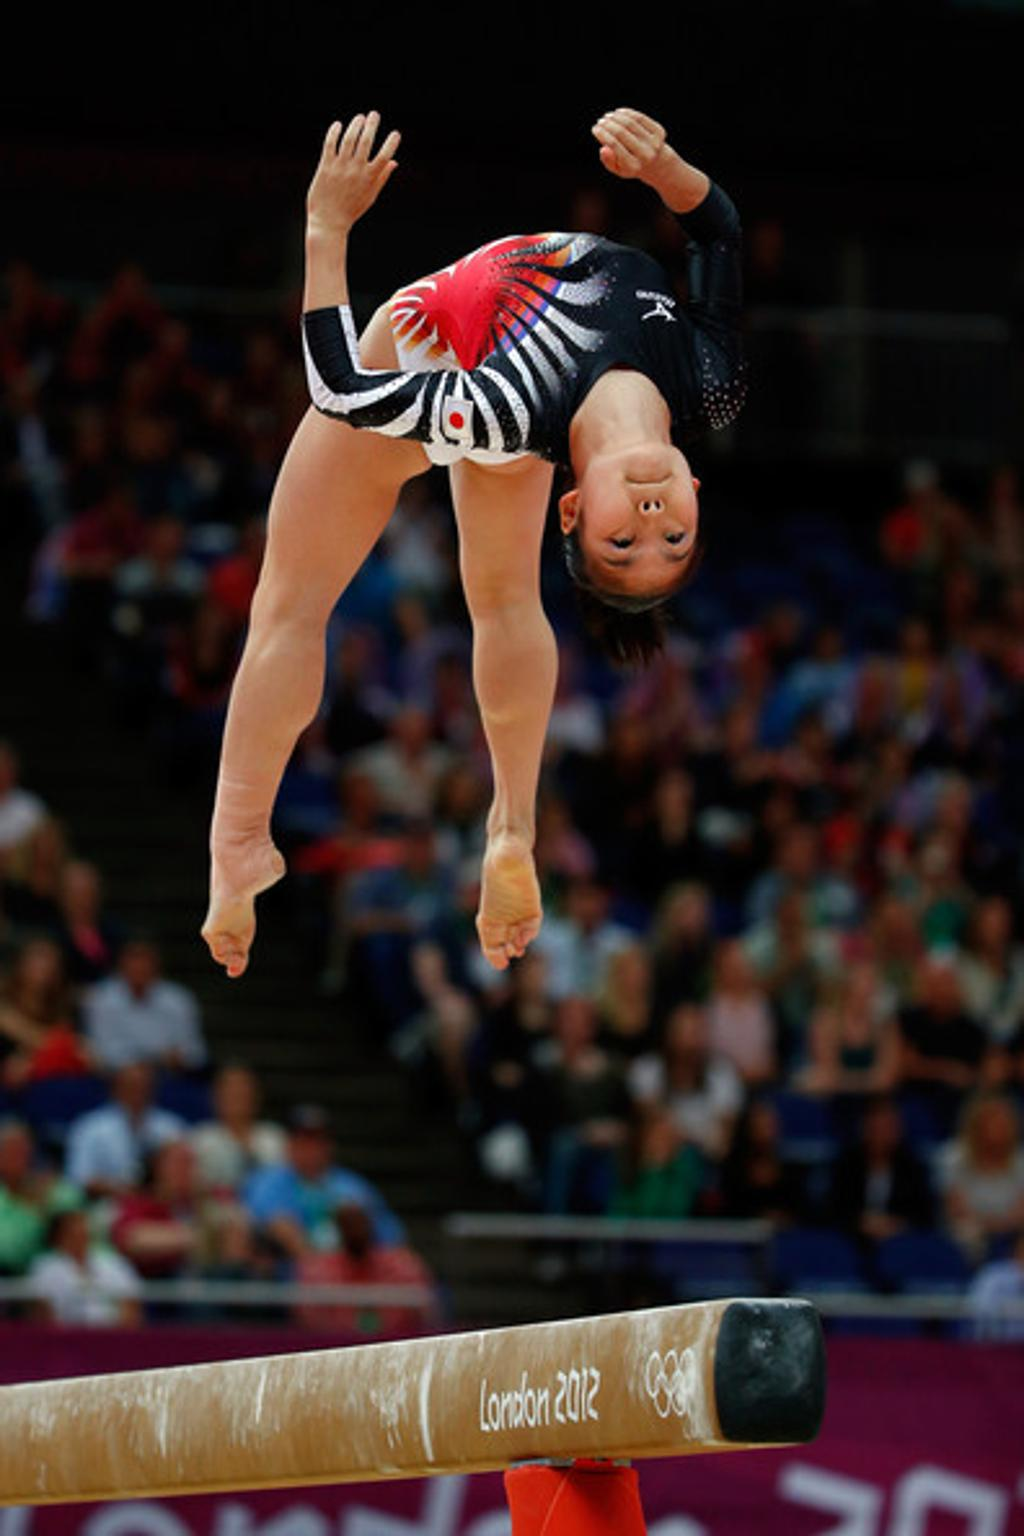face: (581, 442, 704, 625)
